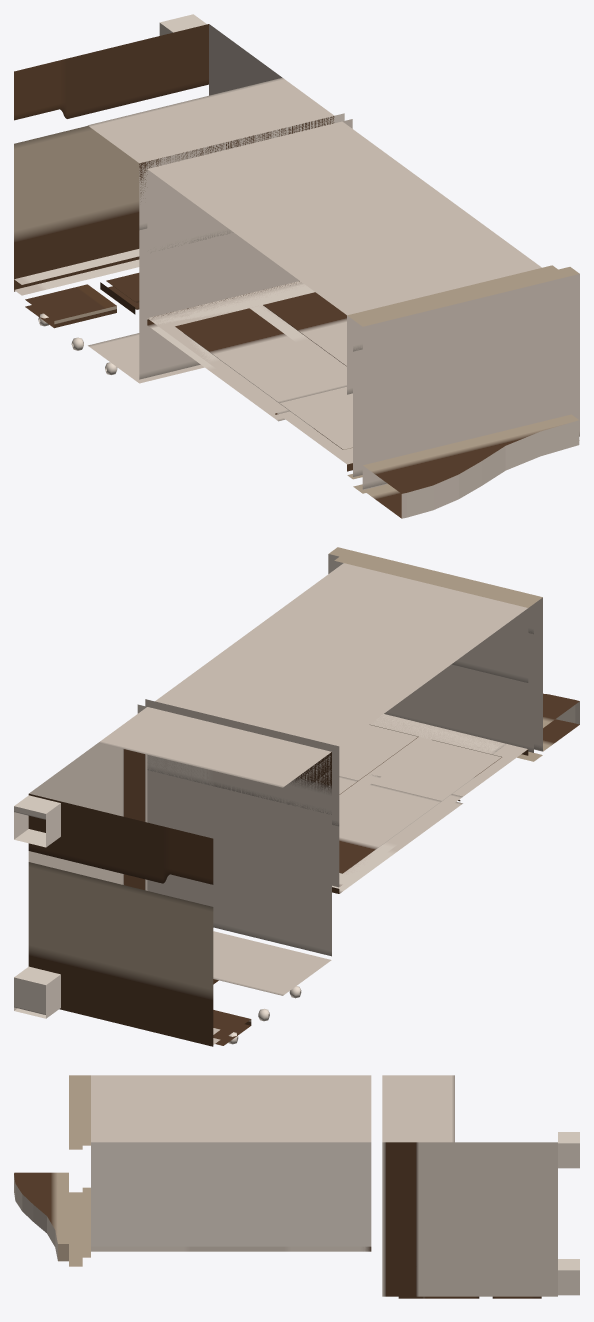
File: section-7.obj
3 views of the same model, one above another, from view 1: azimuth 30°, elevation 25°; view 2: azimuth 150°, elevation 25°; view 3: azimuth 270°, elevation 25° (orthographic). The views are drawn at different scales.
Bounding box in the file's own units: 0.64 × 0.668 × 2.06.
